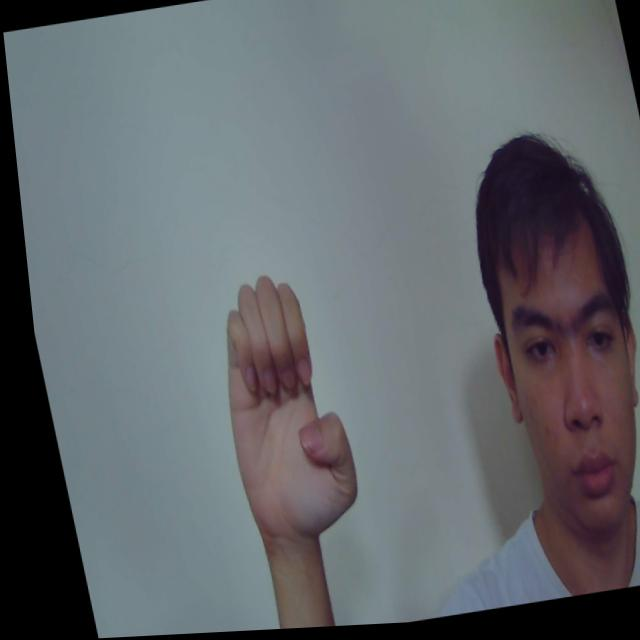E: (192, 267, 358, 554)
